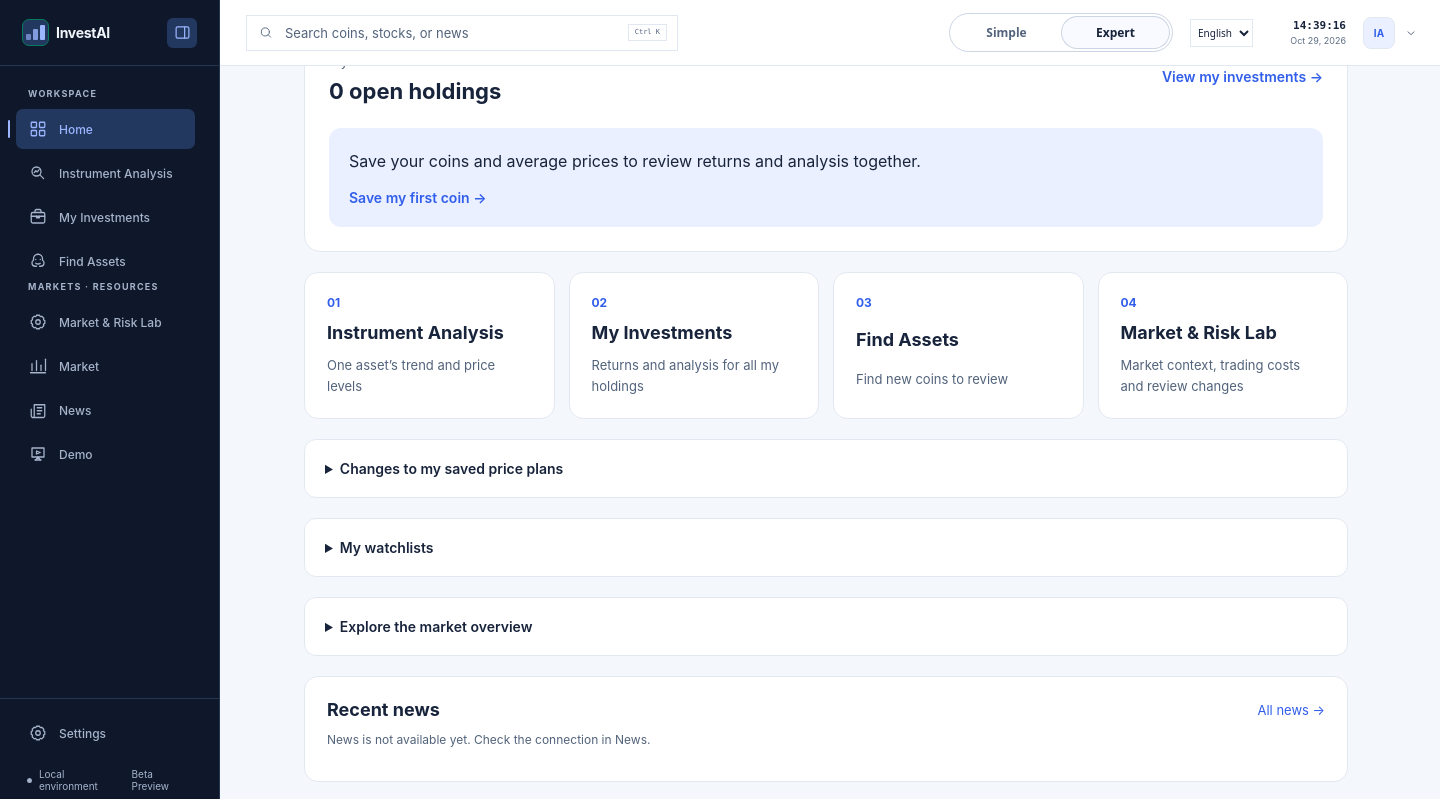
Test: WatchlistManager drag safety › keeps orphaned IDs visible and removable
The image size is (1440, 799).
(page scrolled)
Click the heading "My watchlists".
click(387, 548)  # box [340, 540, 433, 556]
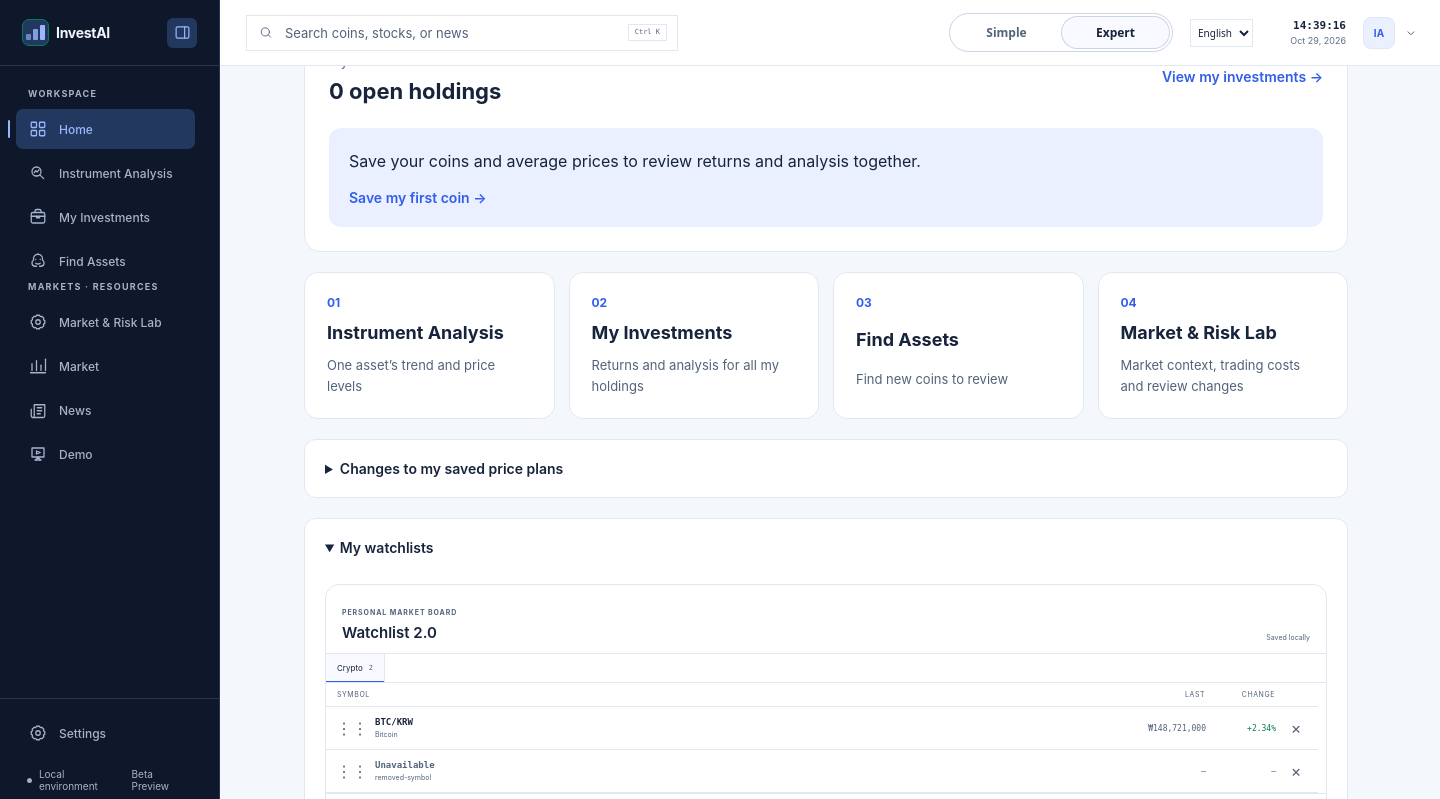
Now the text "Unavailable" is shown, box [375, 760, 435, 770]
Click the button named "Remove removed-symbol".
click(1296, 772)  # box [1284, 760, 1308, 782]
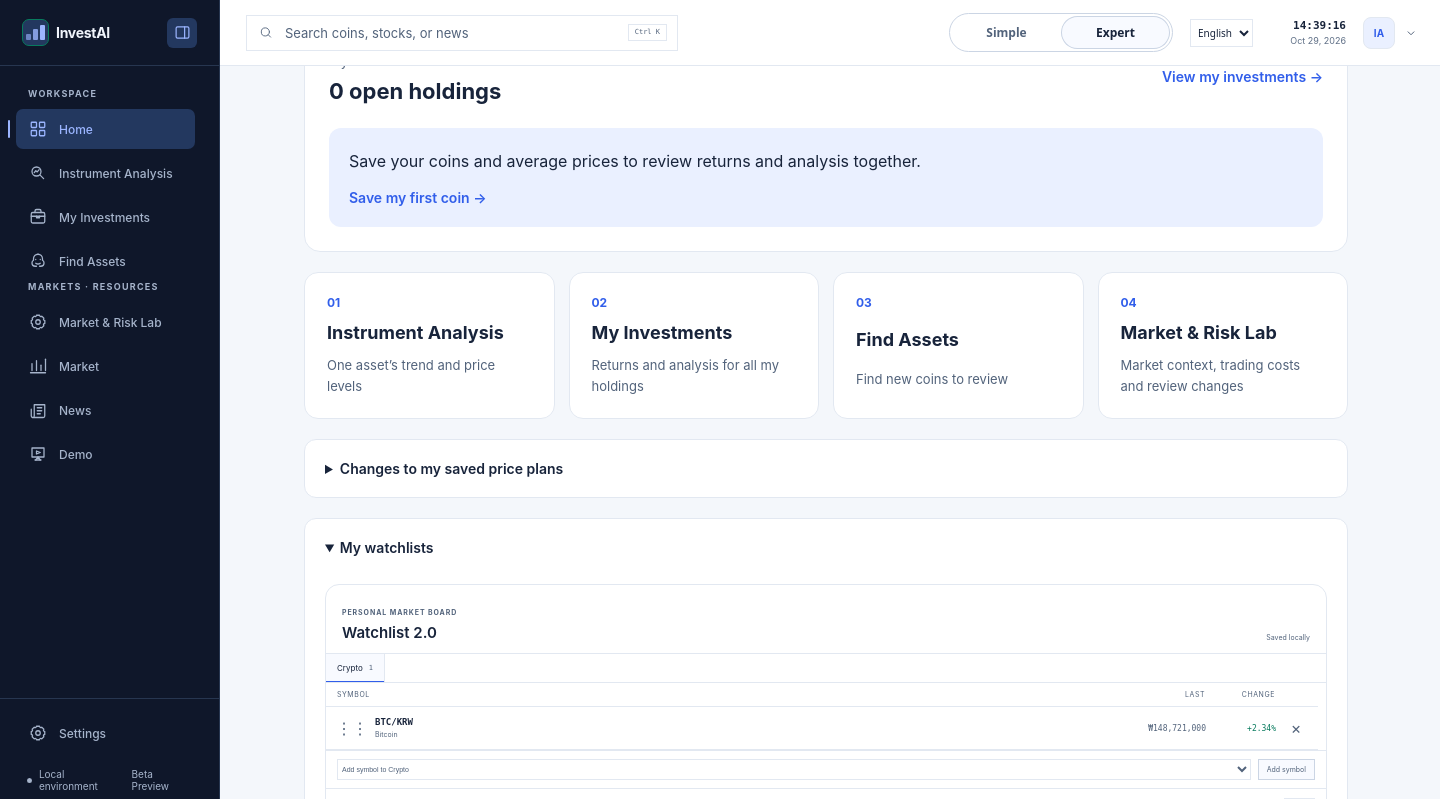
Now the text "Unavailable" is gone
